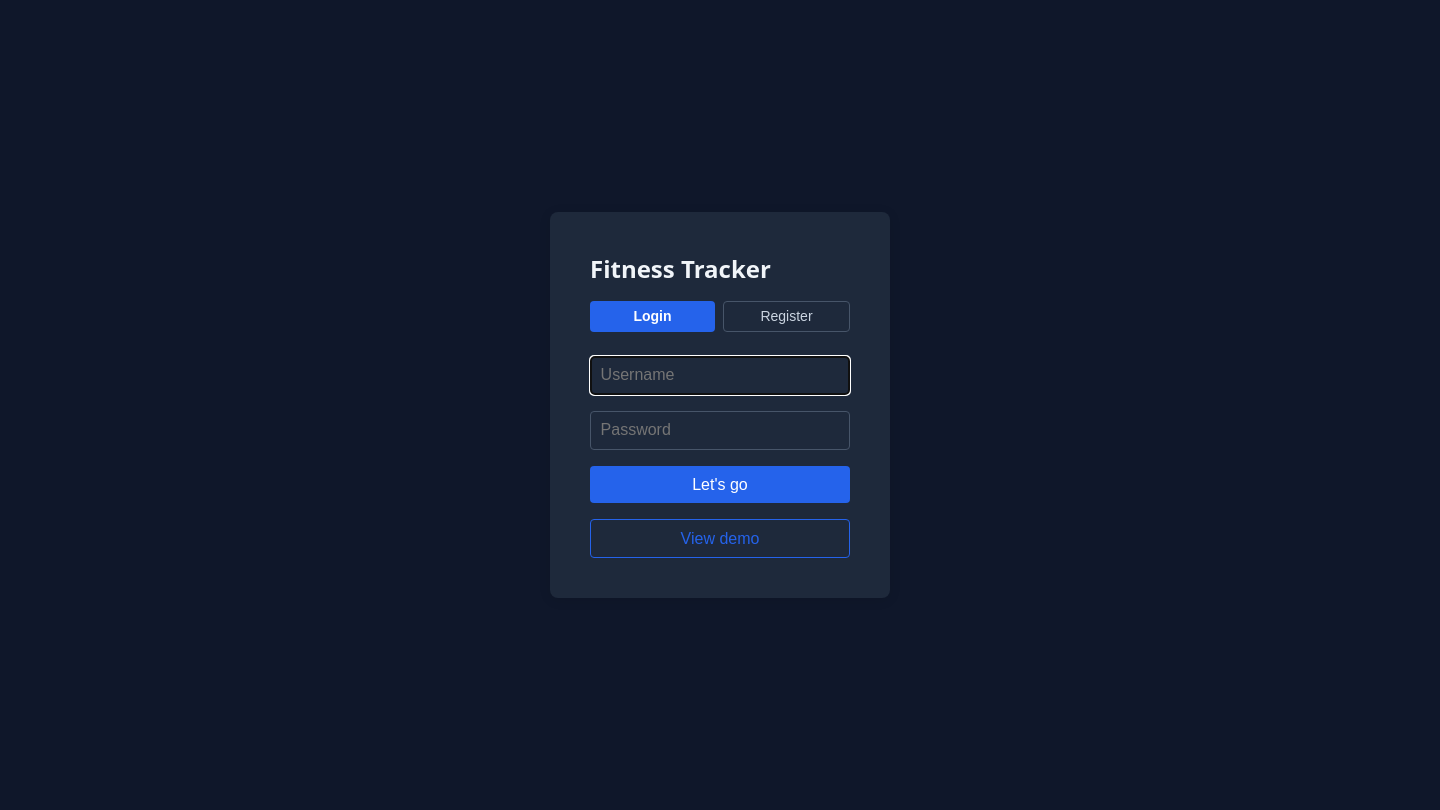
Scenario: UserPicker › swaps the submit button when switching to register
Click the button "Register" at (786, 316), box [723,301,850,332]
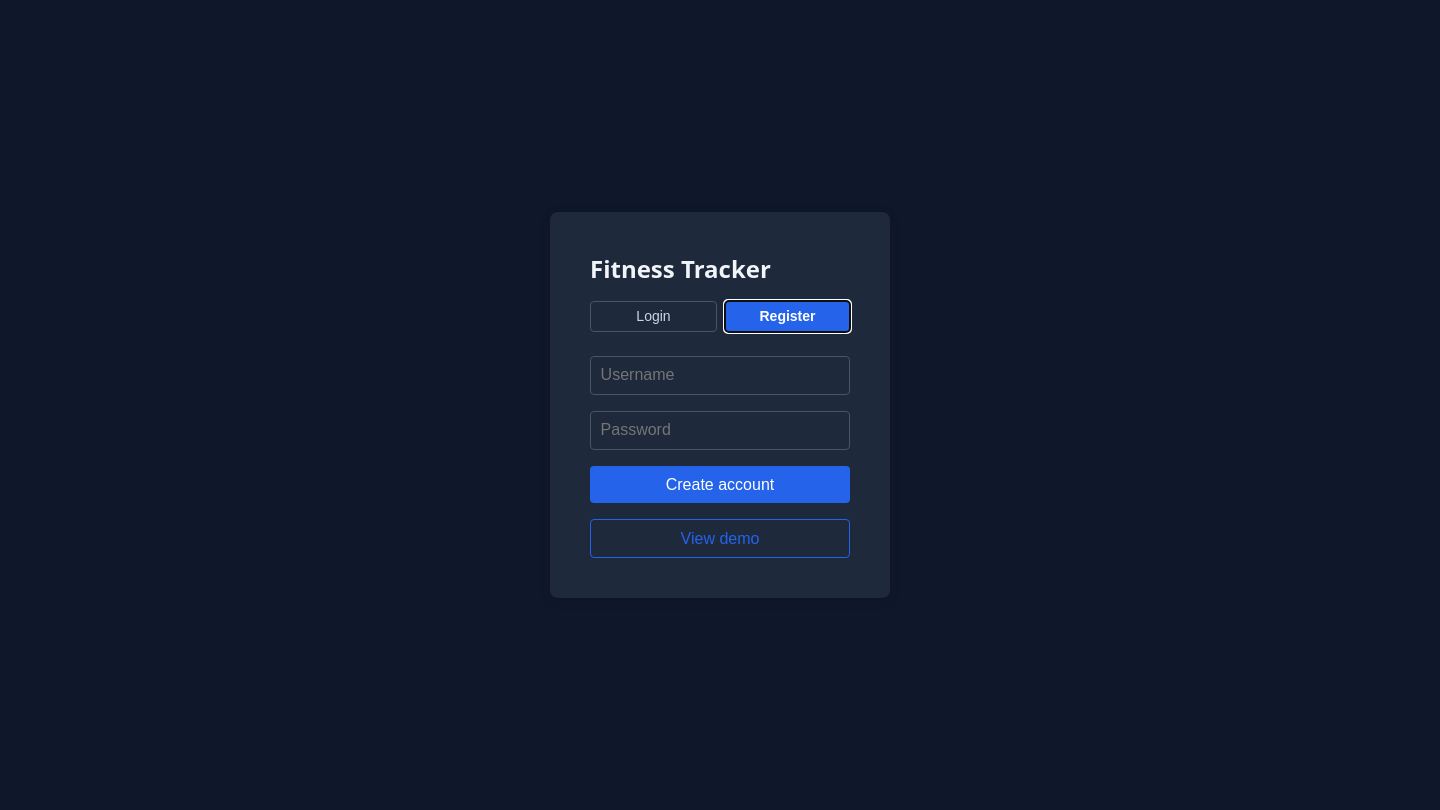
Expected: the button "Create account" is shown, [590,466,850,503]
Expected: the button "Let's go" is gone
